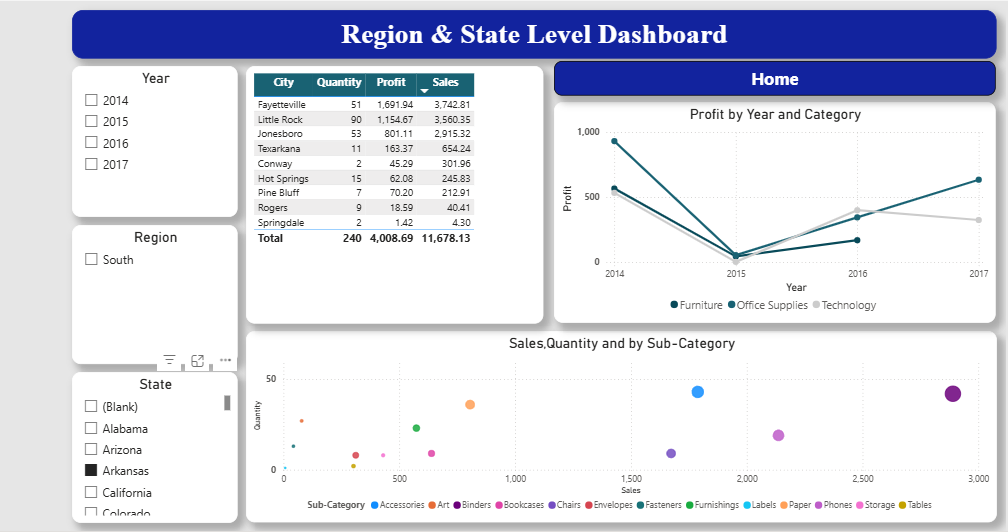

What the dashboard file says about the page in this screenshot:
{"tool":"powerbi","page":{"name":"Region","canvas":[1280,720],"ordinal":1},"visuals":[{"type":"textbox","box":[11.8,11.8,1256.5,65.5],"z":0},{"type":"slicer","title":"Year","fields":{"Values":["Orders.Year"]},"box":[11.7,87.8,225.4,204.9],"z":1000},{"type":"slicer","title":"Region","fields":{"Values":["Orders.Region"]},"box":[11.7,304.4,225.4,188.8],"z":2000},{"type":"slicer","title":"State","fields":{"Values":["Orders.State"]},"box":[11.7,503.4,225.4,204.9],"z":3000},{"type":"scatterChart","title":"Sales,Quantity and by Sub-Category","fields":{"X":["Sum(Orders.Sales)"],"Y":["Sum(Orders.Quantity)"],"Series":["Orders.Sub-Category"],"Size":["Sum(Orders.Profit)"]},"box":[248.8,447.8,1020,260.5],"z":4000},{"type":"tableEx","fields":{"Values":["Orders.City","Sum(Orders.Quantity)","Sum(Orders.Profit)","Sum(Orders.Sales)"]},"box":[248.8,87.8,403.9,349.8],"z":5000},{"type":"lineChart","fields":{"Category":["Orders.Year"],"Y":["Sum(Orders.Profit)"],"Series":["Orders.Category"]},"box":[667.3,137.6,600,300],"z":6000},{"type":"actionButton","box":[667.3,82,600,46.8],"z":7000}]}

Visuals, with their boxes in screenshot pixels (x1, y1, x2, y2):
textbox: bbox=[74, 9, 991, 56]
"Year" slicer: bbox=[74, 64, 239, 214]
"Region" slicer: bbox=[74, 222, 239, 360]
"State" slicer: bbox=[74, 367, 239, 517]
"Sales,Quantity and by Sub-Category" scatterChart: bbox=[247, 327, 992, 517]
tableEx - Orders.City x Sum(Orders.Quantity): bbox=[247, 64, 542, 319]
lineChart - Orders.Year x Sum(Orders.Profit): bbox=[553, 100, 991, 319]
actionButton: bbox=[553, 60, 991, 94]
